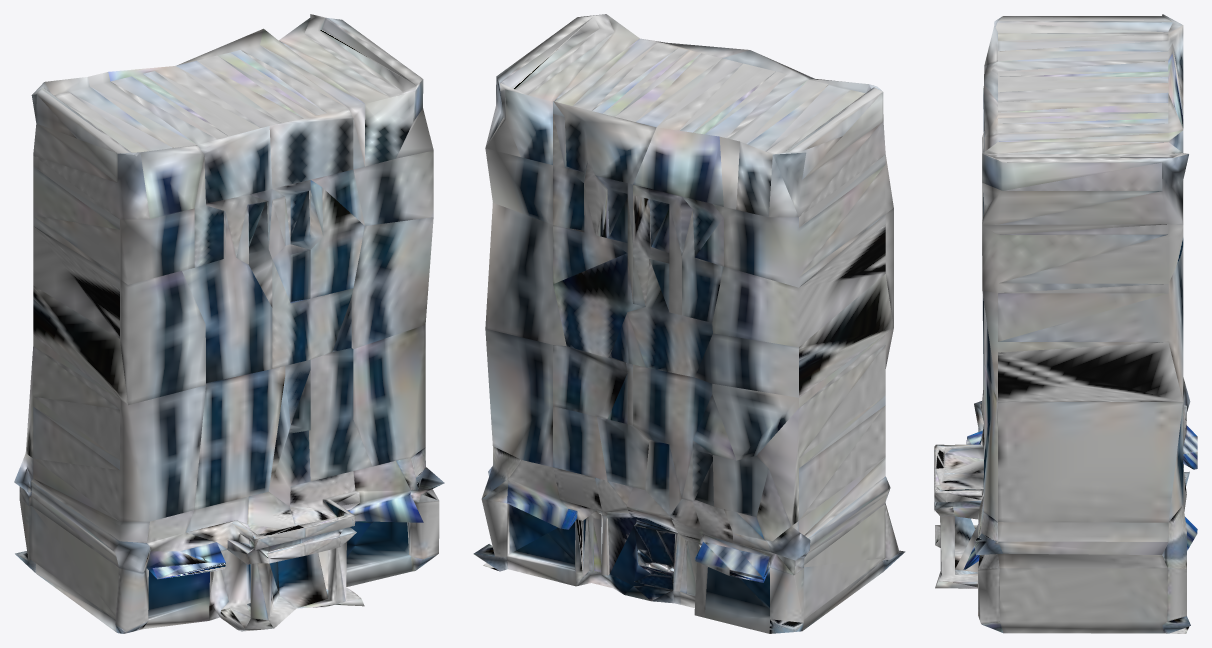
Rendered from 16-hotel.glb.
The picture shows the model from 3 angles, left to right: view 1: azimuth 30°, elevation 25°; view 2: azimuth 150°, elevation 25°; view 3: azimuth 270°, elevation 25°; orthographic projection.
Parts seen in each view (by area): view 1: geometry_0; view 2: geometry_0; view 3: geometry_0.
Part boxes in pixels (bbox=[...]): geometry_0: bbox=[14, 14, 444, 633]; geometry_0: bbox=[473, 14, 905, 633]; geometry_0: bbox=[934, 14, 1197, 633].
Bounding box in the file's own units: 0.6679 × 0.9517 × 0.4819.
Materials: 1 (1 with a texture image).
